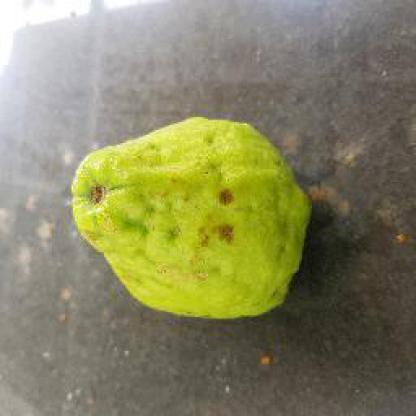guava: (70, 112, 314, 319)
